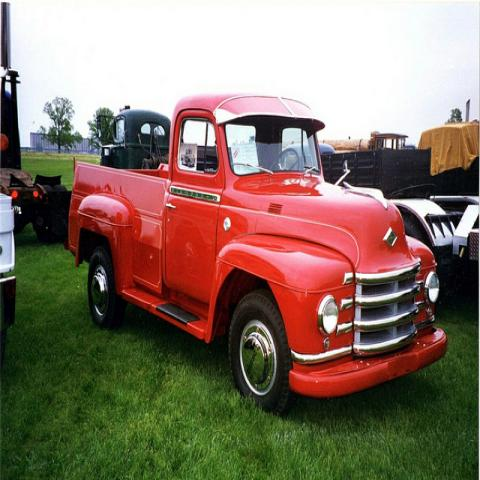truck: (70, 93, 449, 416), (325, 125, 479, 198), (94, 103, 171, 172), (2, 131, 15, 351)
